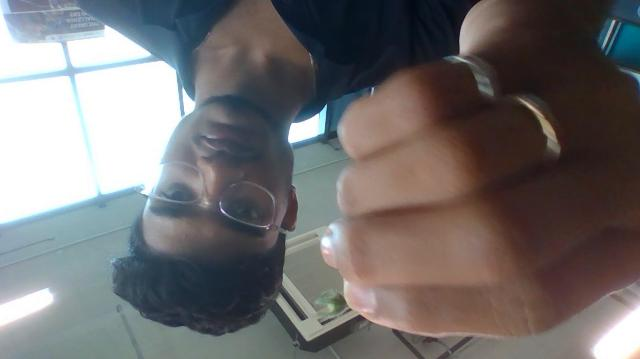Fruit Bud: (315, 289, 344, 308)
